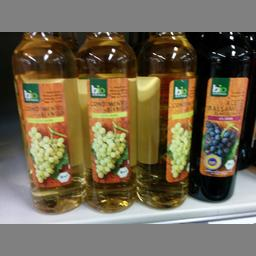vinegar: (12, 30, 86, 214), (76, 28, 138, 212), (190, 33, 255, 202), (138, 31, 196, 206)
